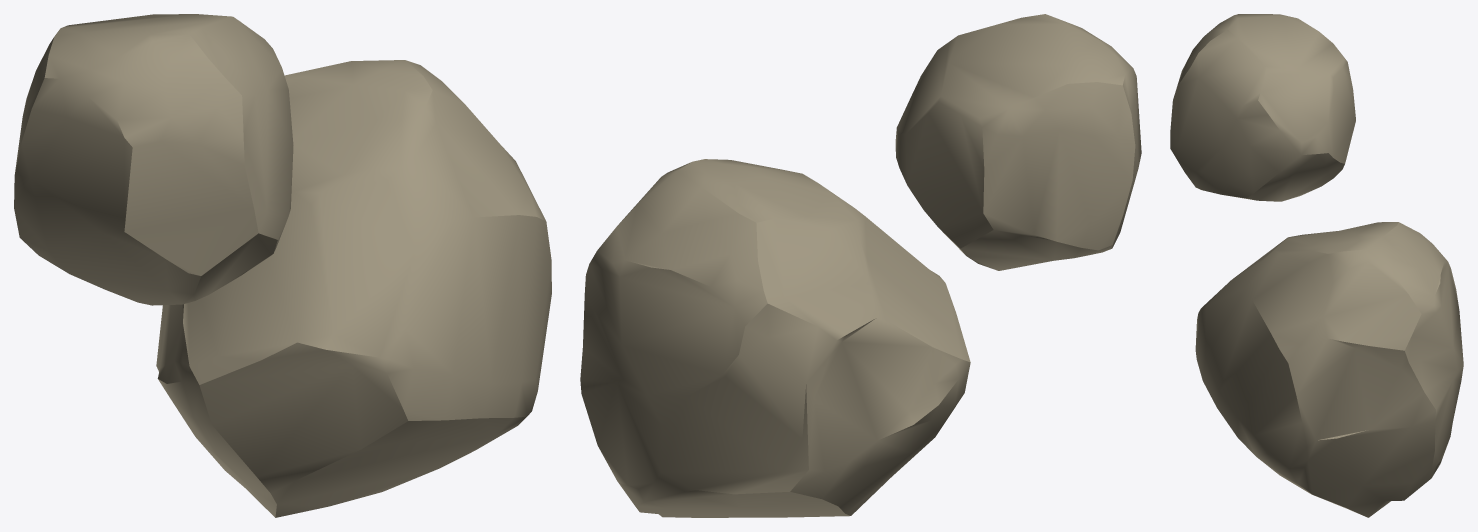
Rendered from UI_Rocks.glb.
3 views of the same model, side by side, from view 1: azimuth 30°, elevation 25°; view 2: azimuth 150°, elevation 25°; view 3: azimuth 270°, elevation 25° (orthographic). The views are drawn at different scales.
Parts seen in each view (by area): view 1: UI_Rocks; view 2: UI_Rocks; view 3: UI_Rocks.
Boxes of the visible parts, <box> form: UI_Rocks: <box>14,14,551,517</box>; UI_Rocks: <box>580,14,1141,517</box>; UI_Rocks: <box>1170,14,1463,517</box>.
Bounding box in the file's own units: 0.4073 × 0.4131 × 0.2855.
1 material, 1 textured.
